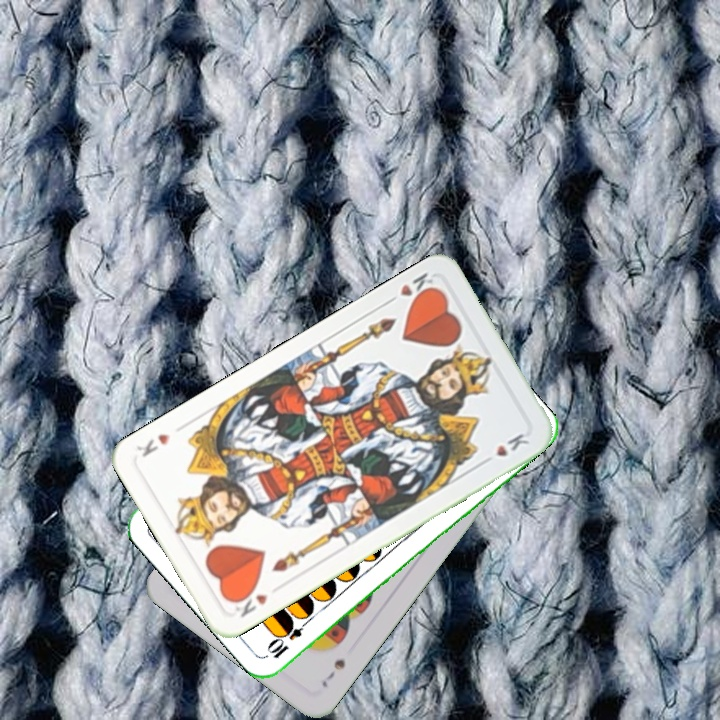E10: (264, 613, 314, 662)
HK: (382, 268, 439, 307), (228, 584, 271, 620)
S7: (317, 655, 348, 691)
